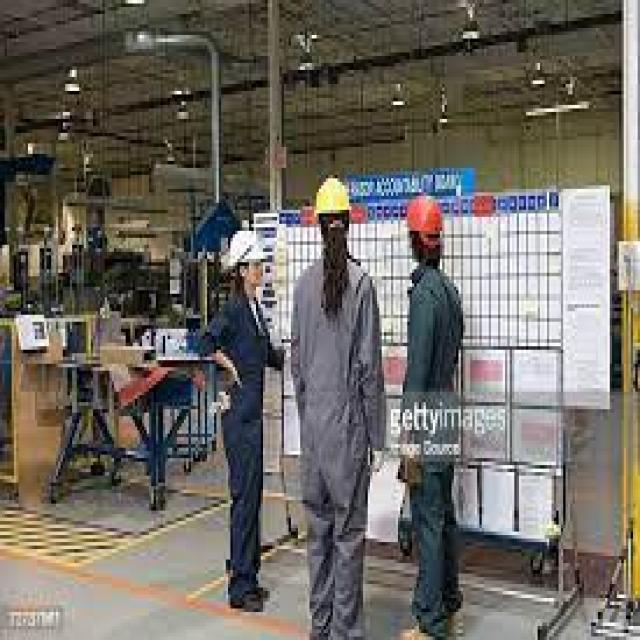Reflective-Jacket: (207, 294, 277, 437)
Safety-Helmet: (305, 164, 358, 238), (217, 220, 274, 280), (398, 186, 449, 248)
